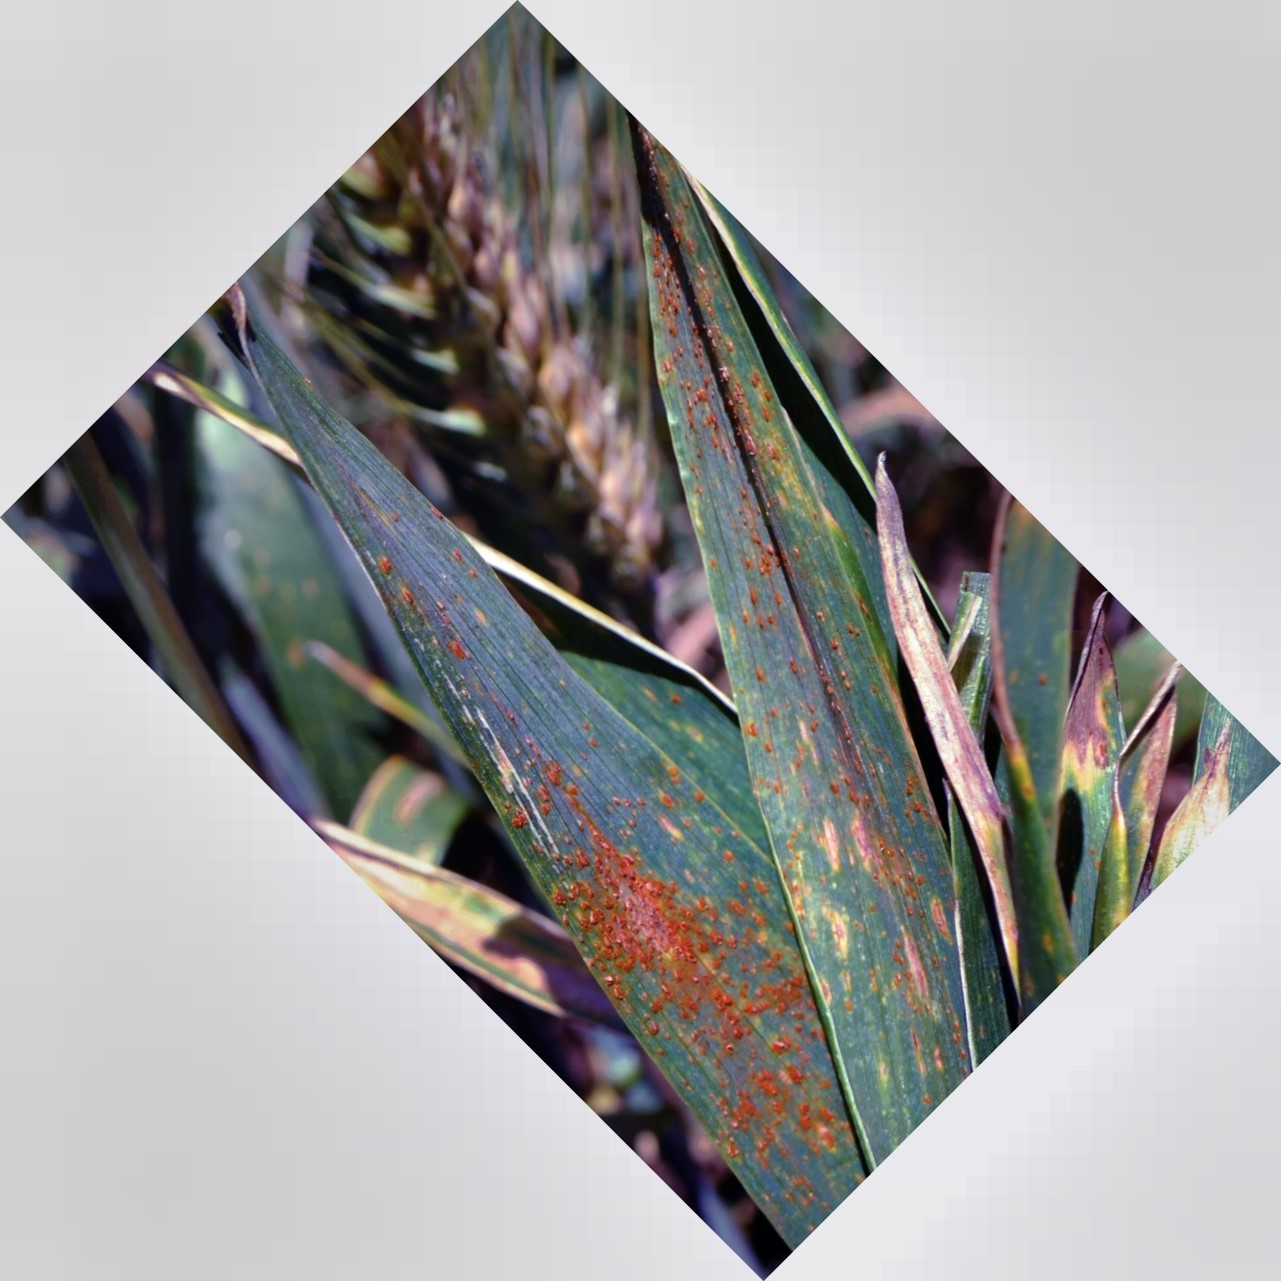Leaf Rust: (484, 777, 1008, 1094), (628, 203, 852, 621)
